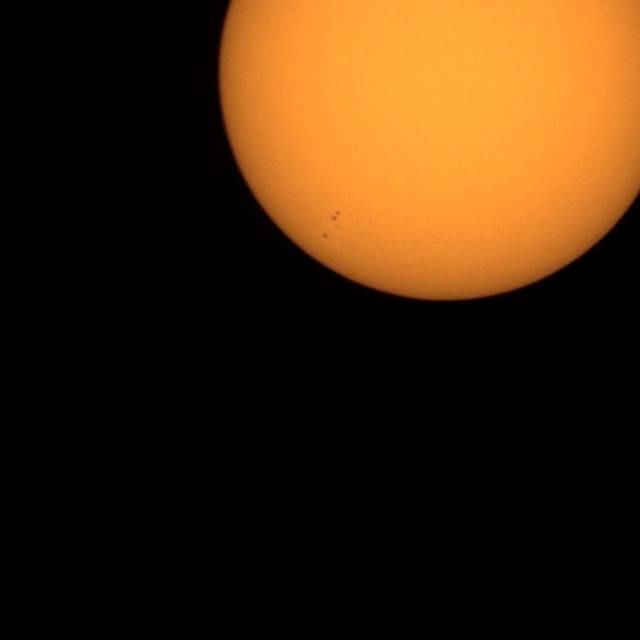sunspot: (323, 210, 342, 225), (322, 232, 330, 240)
